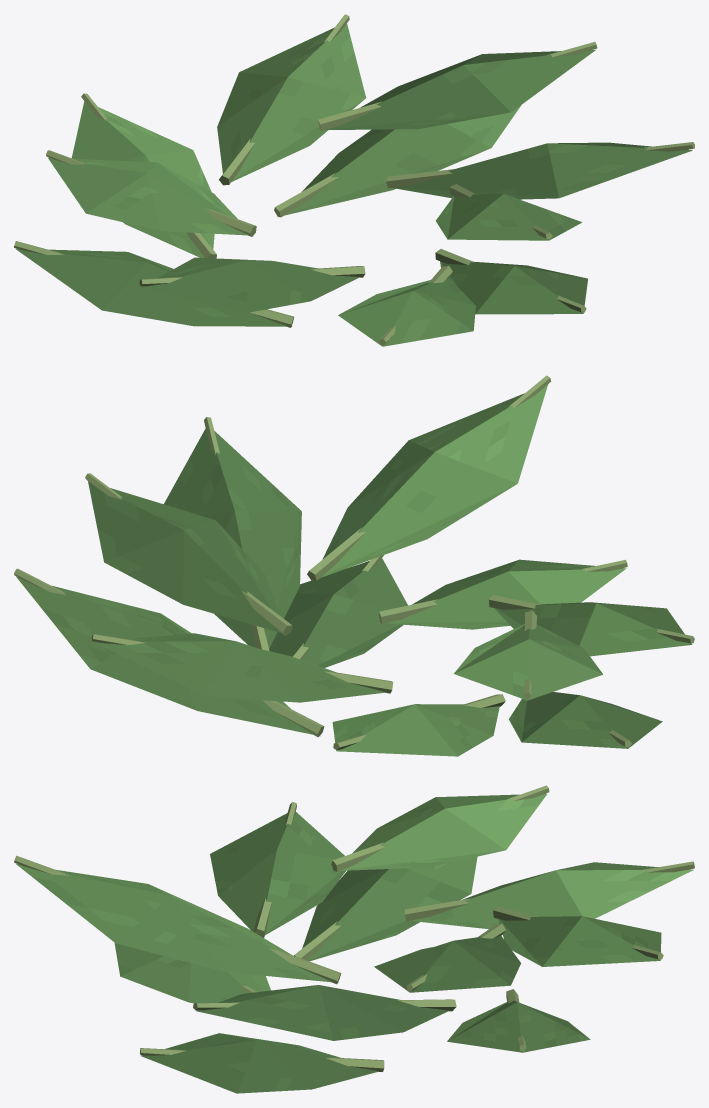
The model's file is tea_green_raw.glb.
3 views of the same model, one above another, from view 1: azimuth 30°, elevation 25°; view 2: azimuth 150°, elevation 25°; view 3: azimuth 270°, elevation 25° (orthographic). The views are drawn at different scales.
Parts seen in each view (by area): view 1: block_veined leaf blade (×17), block_veined leaf tip (×20), block_veined leaf vein (×9); view 2: block_veined leaf blade (×17), block_veined leaf tip (×22), block_veined leaf vein (×8); view 3: block_veined leaf blade (×16), block_veined leaf tip (×19), block_veined leaf vein (×8).
Part boxes in pixels (bbox=[...]): block_veined leaf blade (×17): bbox=[86, 54, 558, 330]; block_veined leaf tip (×20): bbox=[15, 24, 692, 346]; block_veined leaf vein (×9): bbox=[14, 14, 694, 327]; block_veined leaf blade (×17): bbox=[91, 440, 602, 756]; block_veined leaf tip (×22): bbox=[16, 384, 691, 756]; block_veined leaf vein (×8): bbox=[14, 375, 694, 750]; block_veined leaf blade (×16): bbox=[116, 797, 581, 1093]; block_veined leaf tip (×19): bbox=[16, 793, 693, 1093]; block_veined leaf vein (×8): bbox=[14, 785, 694, 1071].
Bounding box in the file's own units: 0.0339 × 0.0102 × 0.0349.
Materials: 2 (2 with a texture image).
